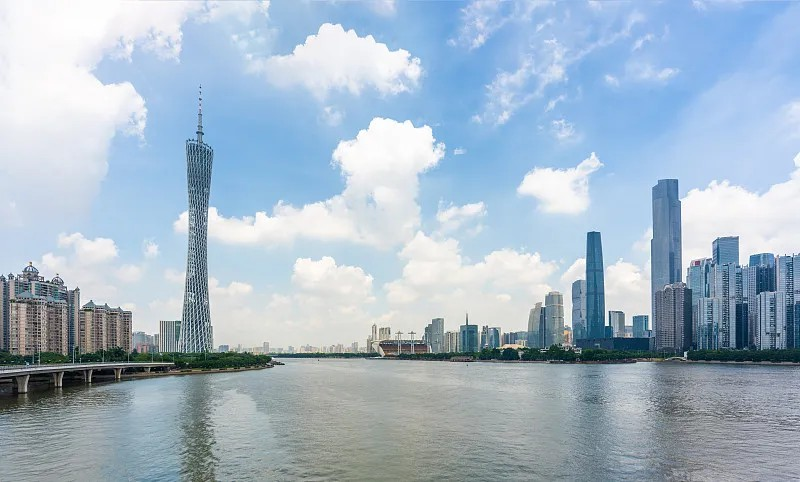Canton: (179, 82, 215, 355)
